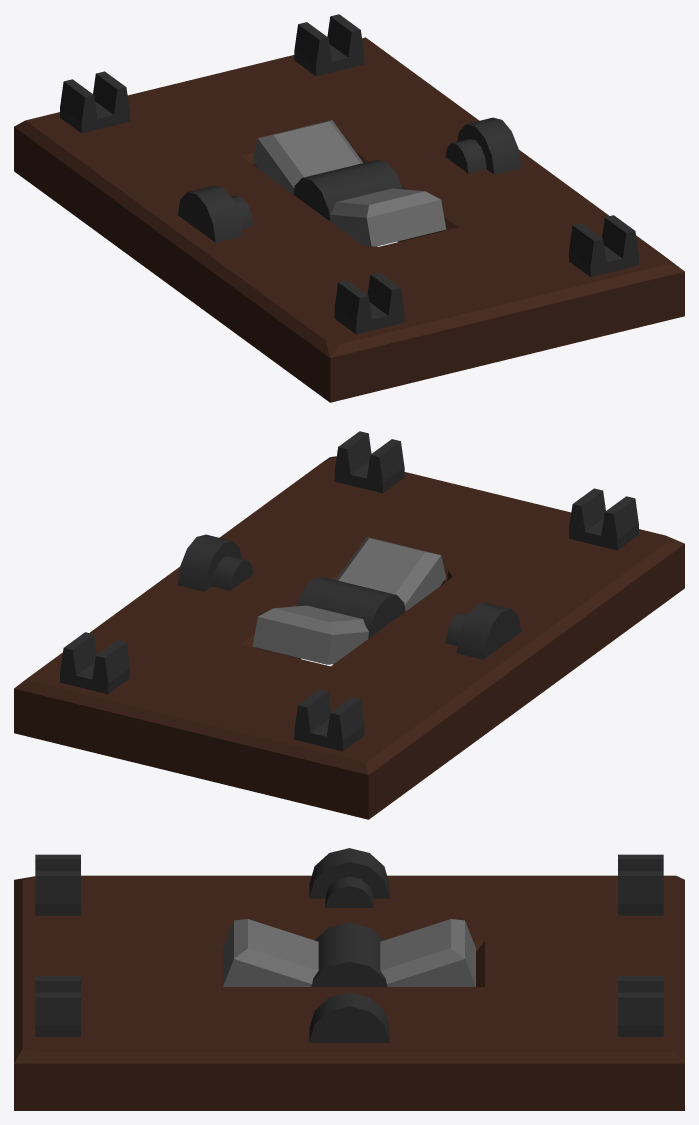
The model's file is obj_PowerSwitch_Base.fbx.
The picture shows the model from 3 angles, top to bottom: view 1: azimuth 30°, elevation 25°; view 2: azimuth 150°, elevation 25°; view 3: azimuth 270°, elevation 25°; orthographic projection. The views are drawn at different scales.
Visible parts, largest first — view 1: Base, Conncetors_Center, Conectors_Outer, Hinge; view 2: Base, Conncetors_Center, Conectors_Outer, Hinge; view 3: Base, Conncetors_Center, Conectors_Outer, Hinge.
Boxes of the visible parts, x1,y1,x2,y2 form: Base: [14, 37, 684, 402]; Conncetors_Center: [252, 120, 446, 246]; Conectors_Outer: [60, 14, 638, 334]; Hinge: [177, 117, 521, 242]; Base: [14, 456, 684, 819]; Conncetors_Center: [252, 537, 446, 664]; Conectors_Outer: [60, 431, 638, 751]; Hinge: [177, 534, 521, 659]; Base: [14, 875, 684, 1110]; Conncetors_Center: [223, 919, 475, 986]; Conectors_Outer: [35, 854, 663, 1036]; Hinge: [309, 848, 389, 1042].
Bounding box in the file's own units: 0.1941 × 0.0458 × 0.2996.
